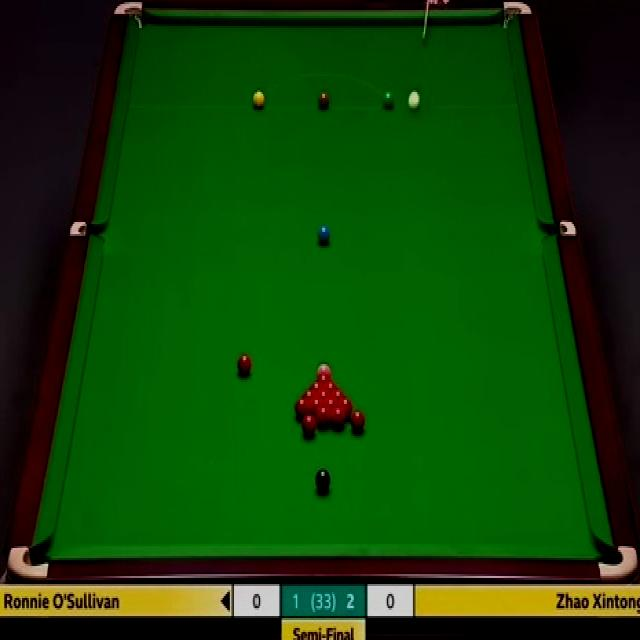pocket: (595, 542, 637, 582), (4, 544, 51, 578), (110, 0, 145, 31), (500, 0, 532, 32), (69, 218, 109, 234), (539, 220, 576, 237)
